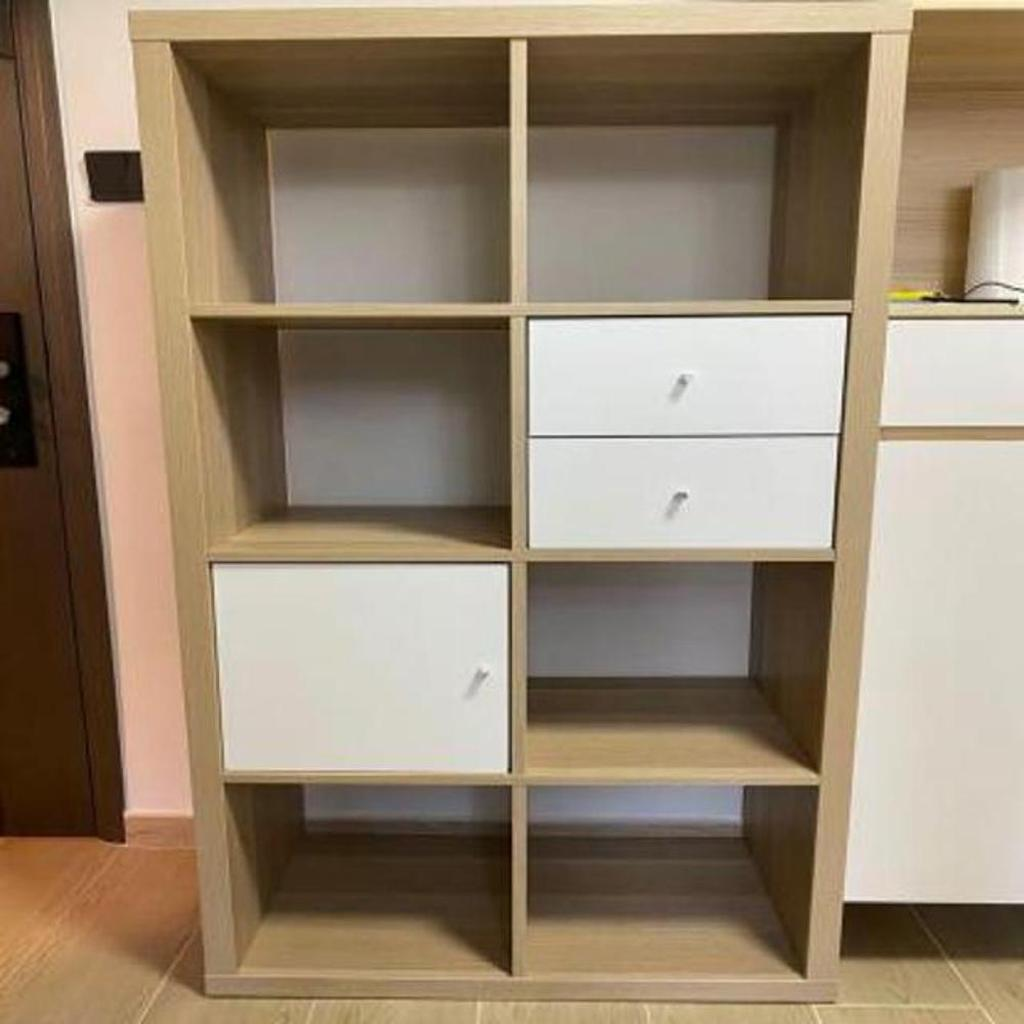lamp: (127, 6, 919, 1009)
